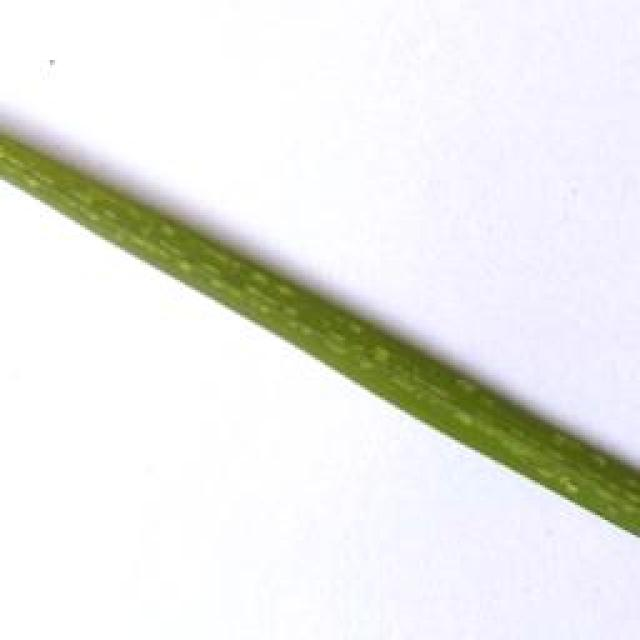Healthy-Plant: (0, 133, 640, 538)
